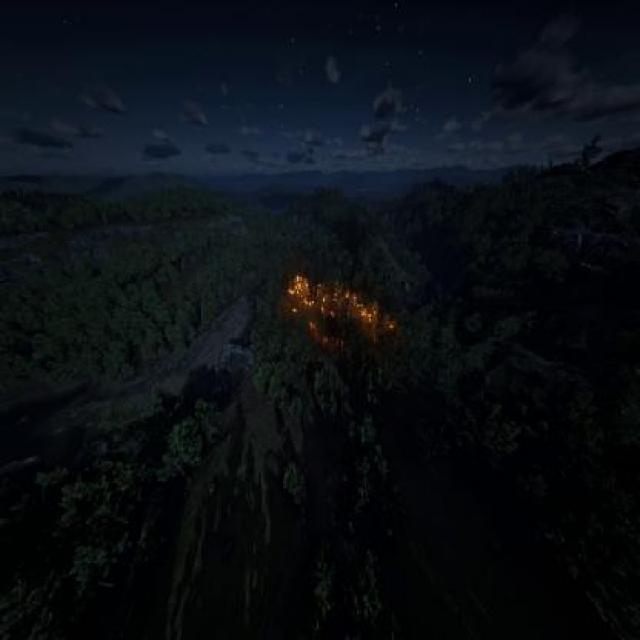Fire: (266, 256, 402, 361)
